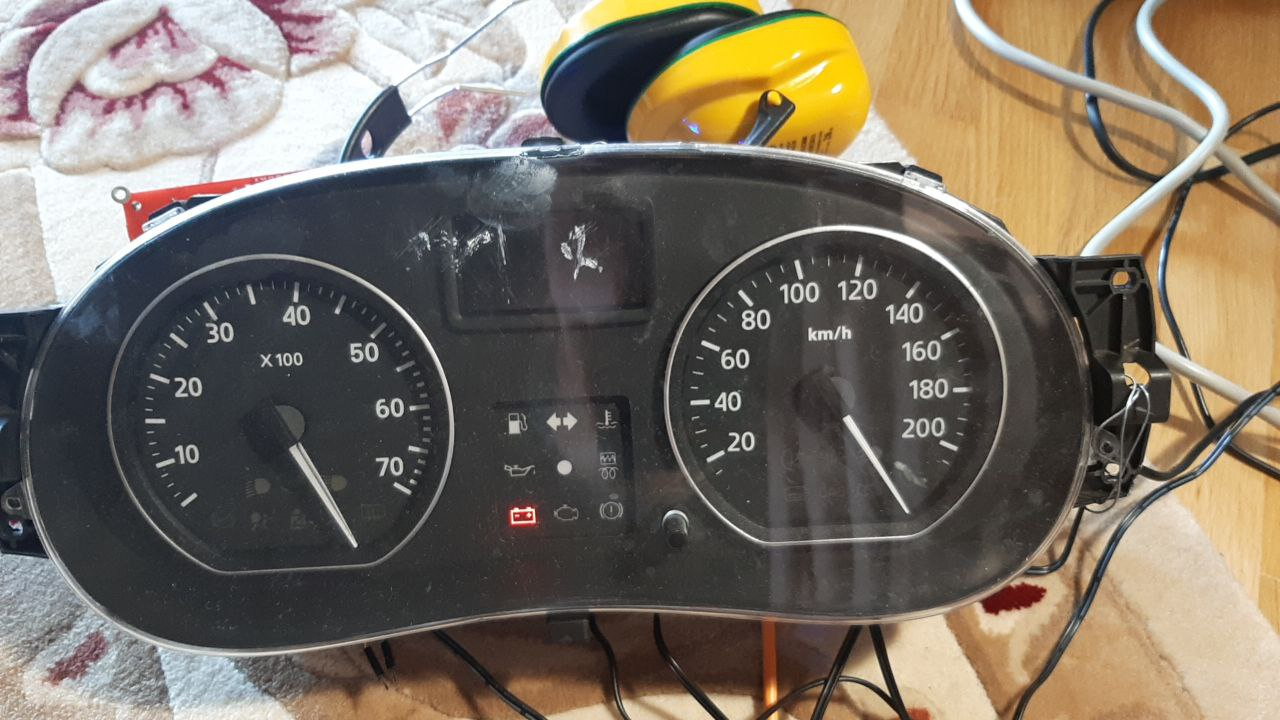accumulator: (502, 506, 540, 525)
